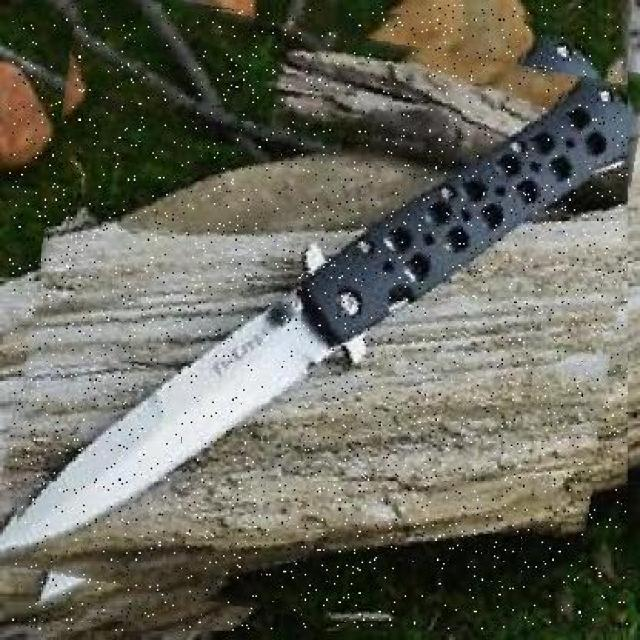knife: (9, 4, 628, 630)
